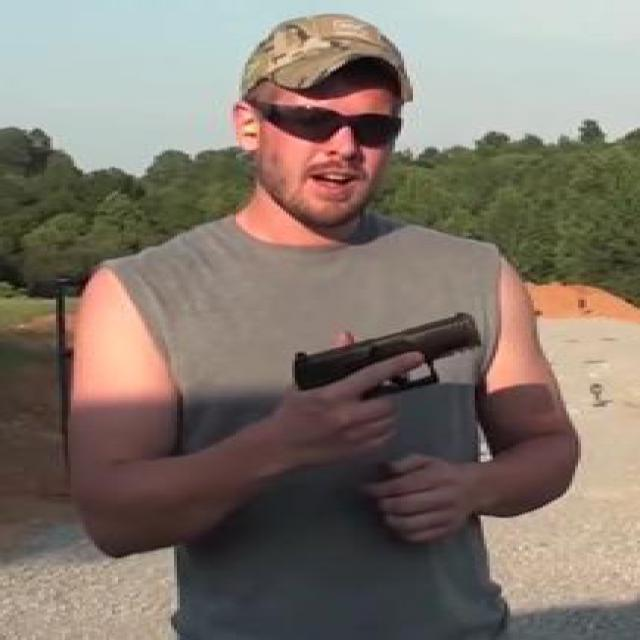Gun: (286, 311, 484, 447)
